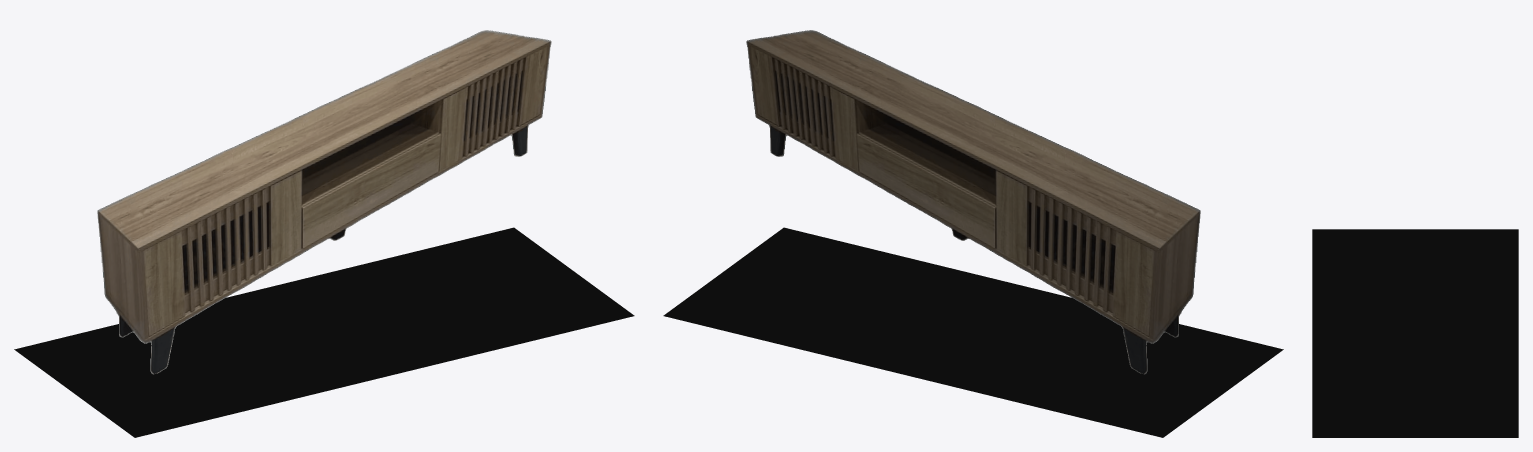
File: arm-df8a36e515.glb
The picture shows the model from 3 angles, left to right: view 1: azimuth 30°, elevation 25°; view 2: azimuth 150°, elevation 25°; view 3: azimuth 270°, elevation 25°; orthographic projection. The views are drawn at different scales.
Bounding box in the file's own units: 1.34 × 0.675 × 0.56.
Materials: 2 (2 with a texture image).
